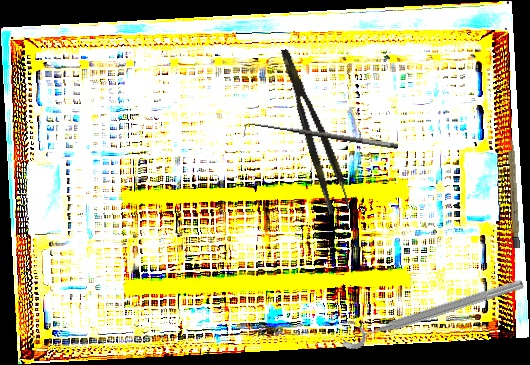Fixation Ring: (334, 264, 527, 353)
Hook Surgical: (243, 117, 399, 161)
Scalpel Handle: (507, 136, 520, 249)
Tissue Forceps: (278, 44, 353, 215)
